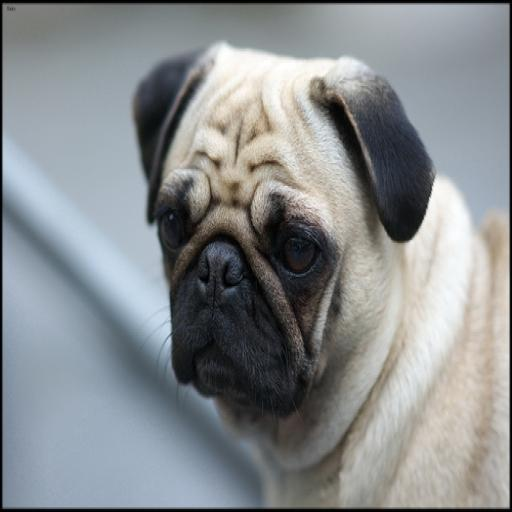dog_face: (134, 33, 428, 413)
